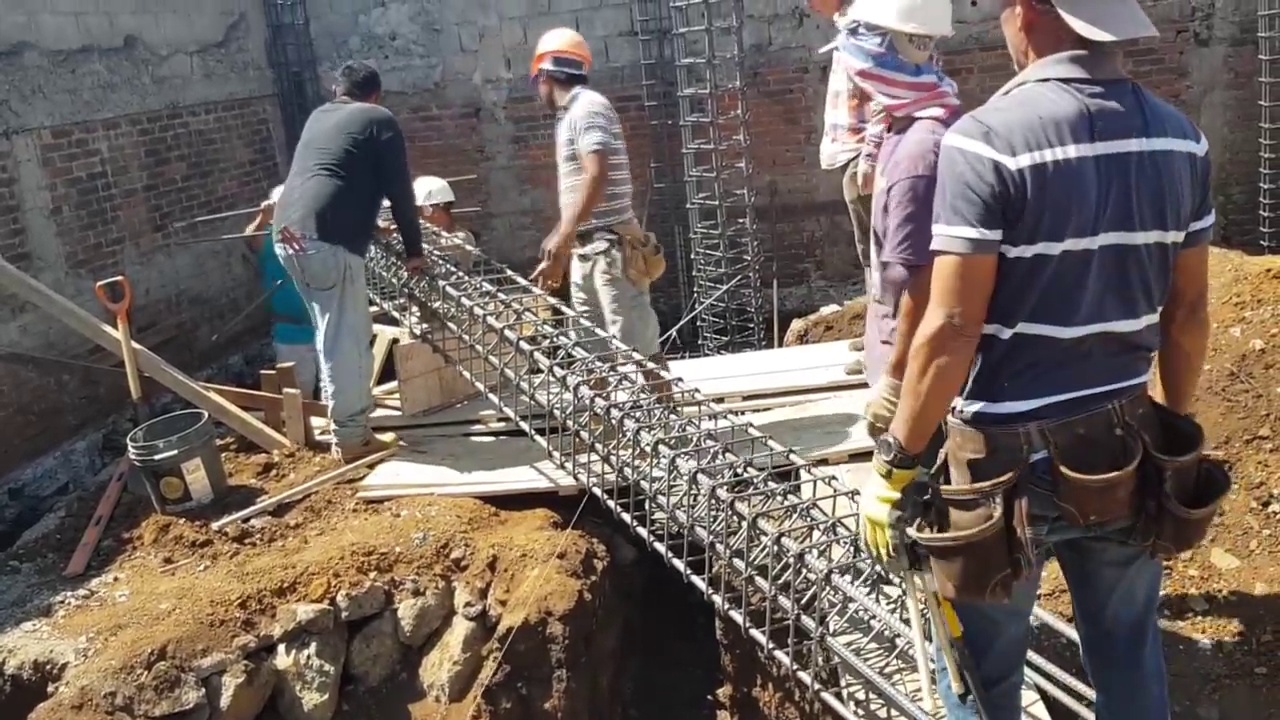helmet: (849, 0, 953, 59), (523, 26, 588, 69), (411, 170, 462, 209)
helmet-off: (988, 0, 1159, 74), (333, 60, 379, 106)
helmet-on: (832, 0, 949, 156), (531, 18, 594, 113), (409, 170, 458, 231)
person: (858, 0, 1223, 705), (265, 59, 422, 470), (818, 0, 952, 447), (529, 26, 657, 360), (244, 184, 326, 407)
